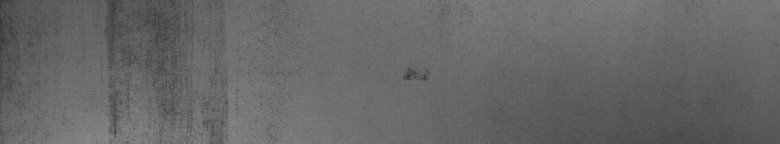ka: (104, 4, 226, 136)
